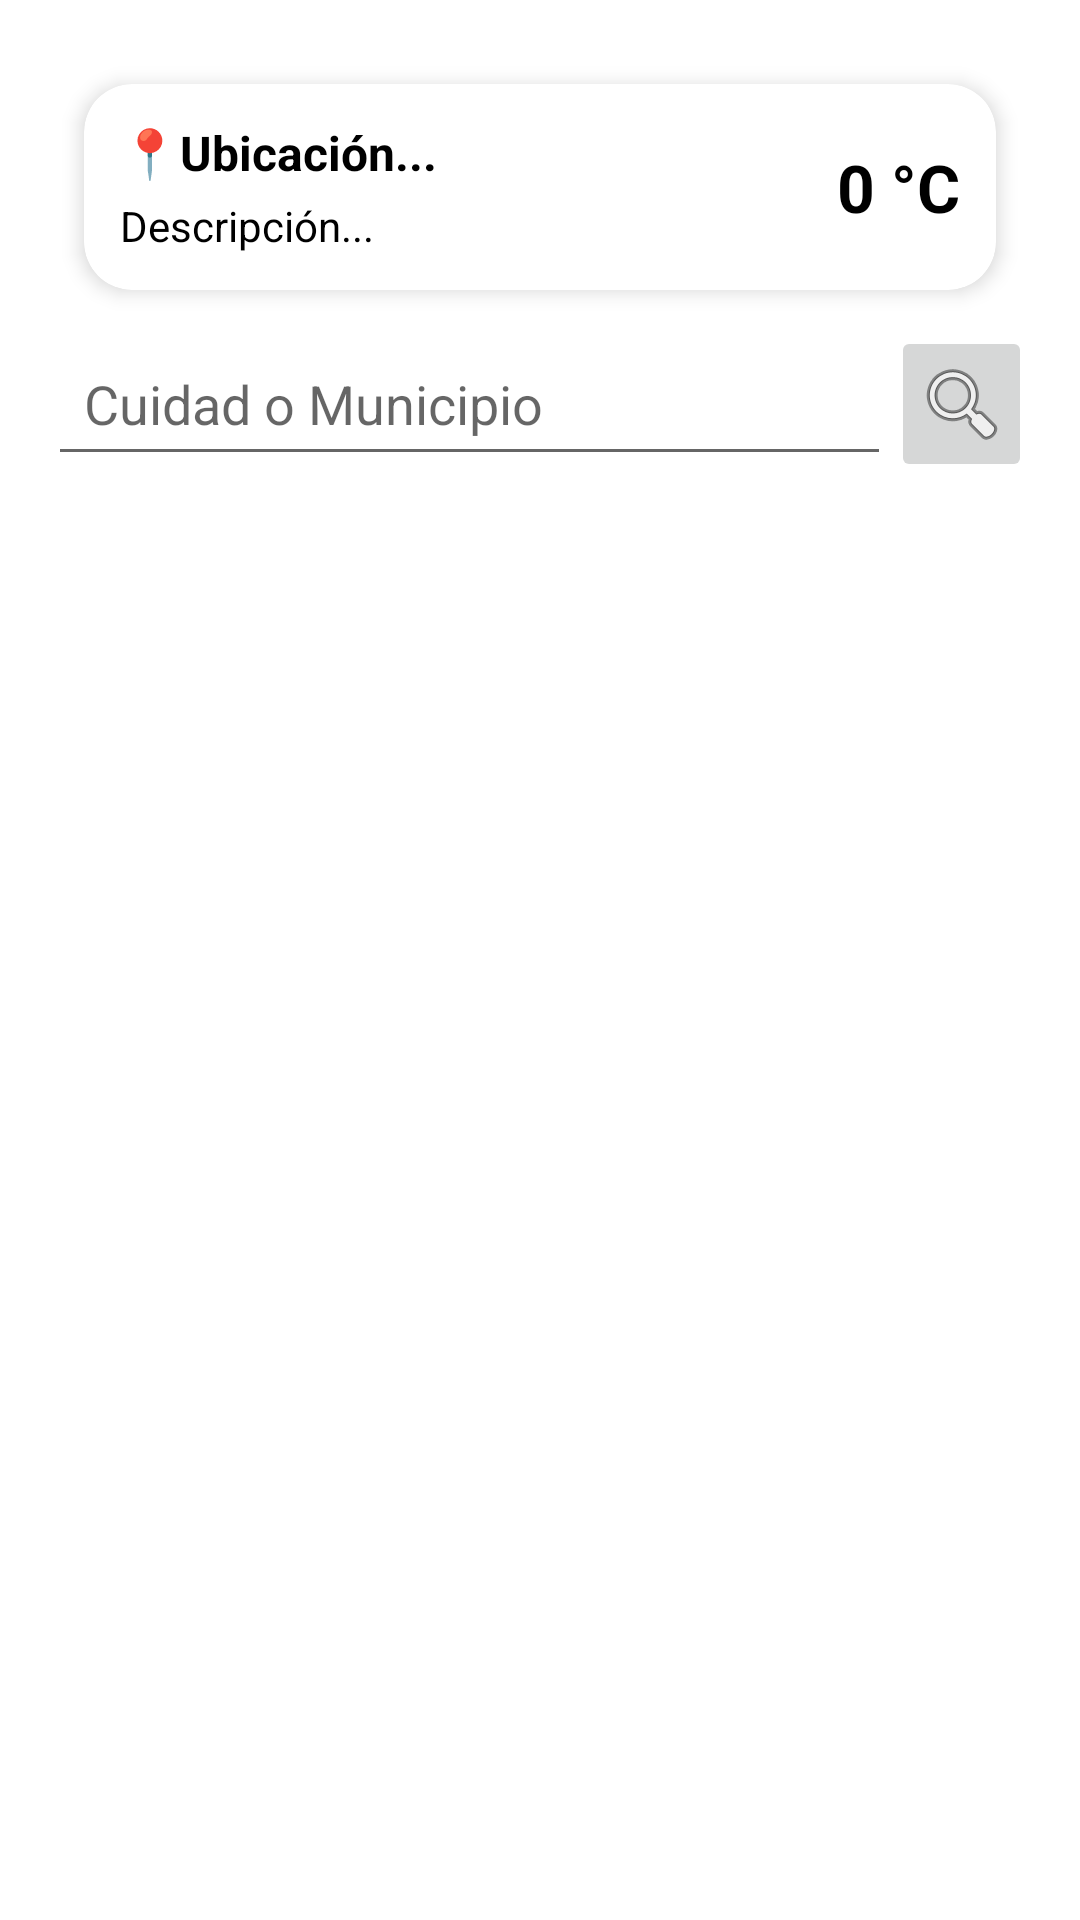

Where icons sit on this 1080x1920 app screen, as (x1, y1, x2, y2):
Botón buscar: (903, 344, 1020, 464)
